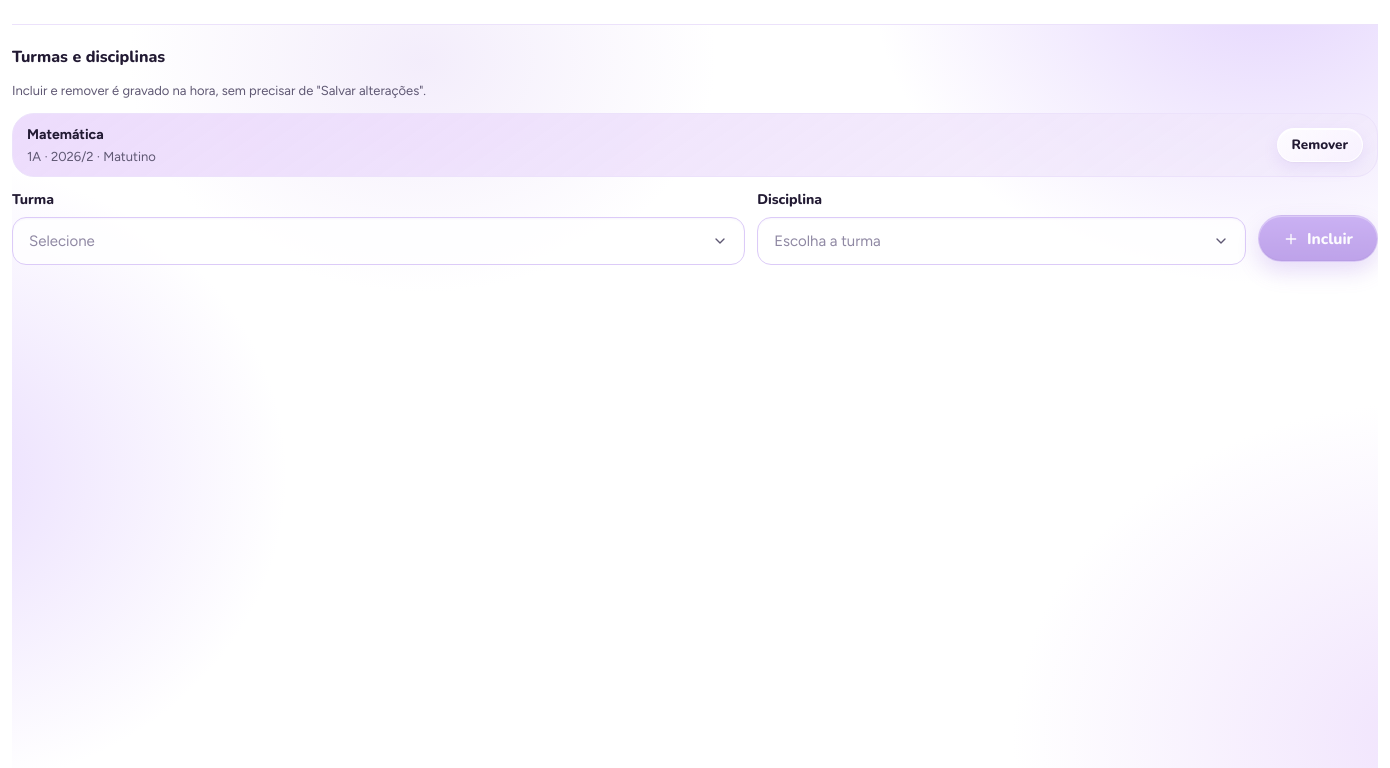
Test: AlocacoesDoProfessor › lista as alocações e só oferece turma ativa e disciplina sem professor
Expected: the text "1A · 2026/2 · Matutino" is shown, [27,146,156,166]
Click the dropdown named "Turma" at (62, 241), box [12,217,745,265]
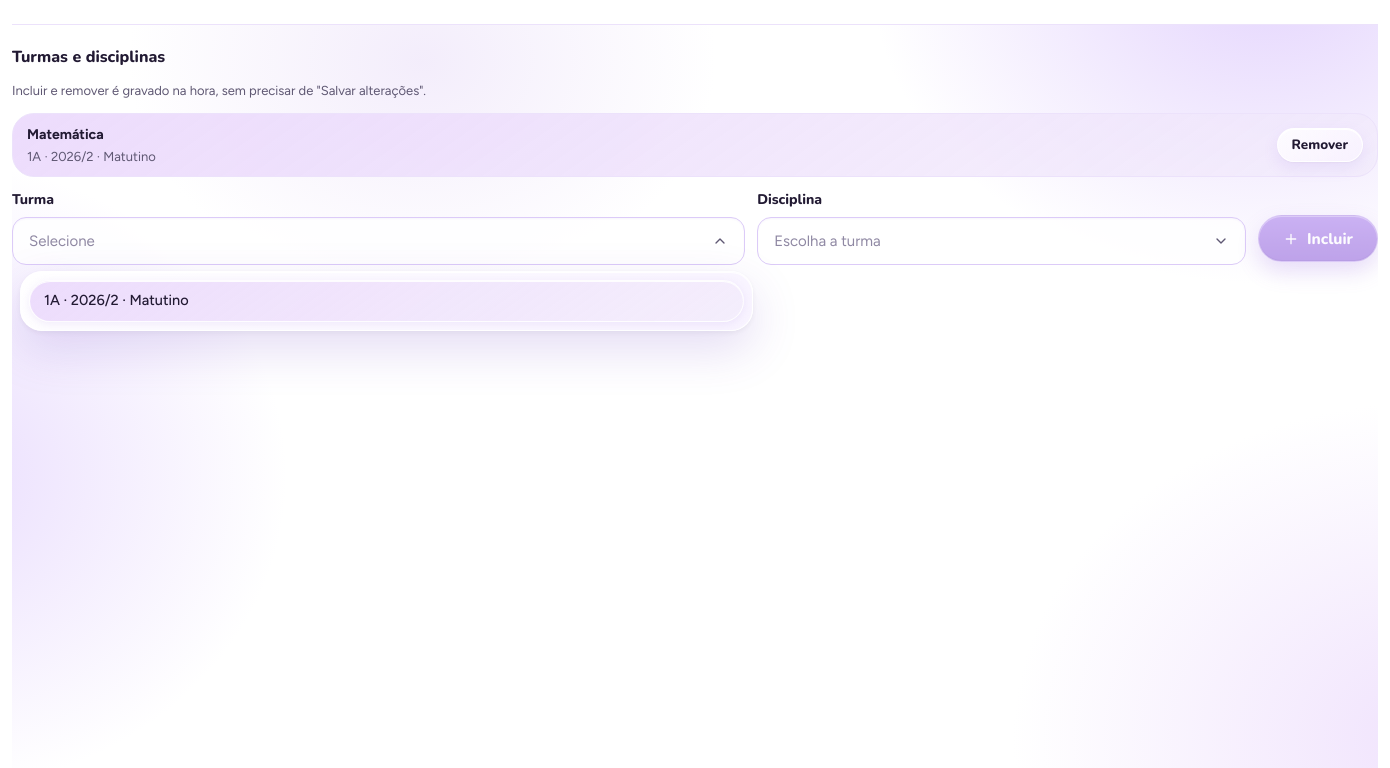
Click the option "1A · 2026/2 · Matutino" at (116, 300), box [29,280,744,322]
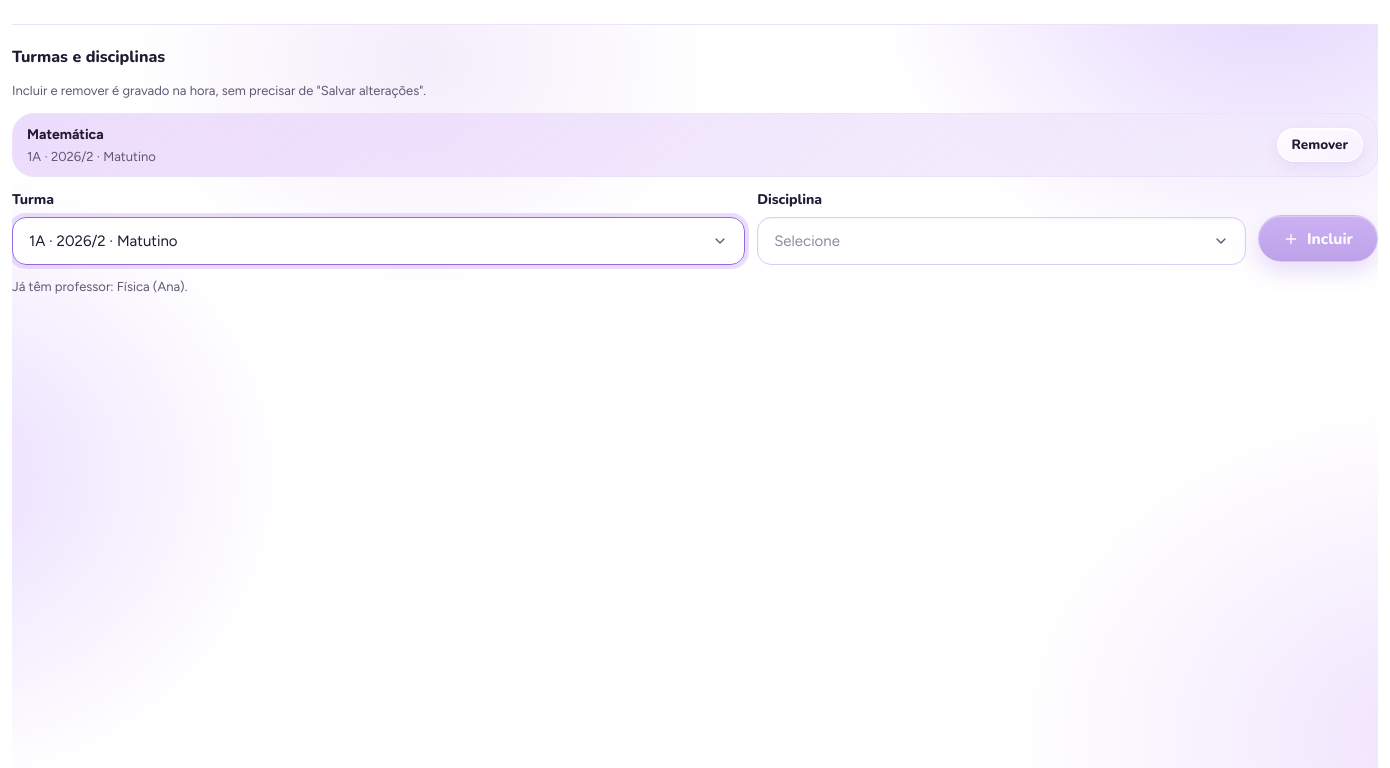
Expected: the text "Já têm professor: Física (Ana)." is shown, [12,279,187,294]
Click the dropdown named "Disciplina" at (807, 241), box [757,217,1246,265]
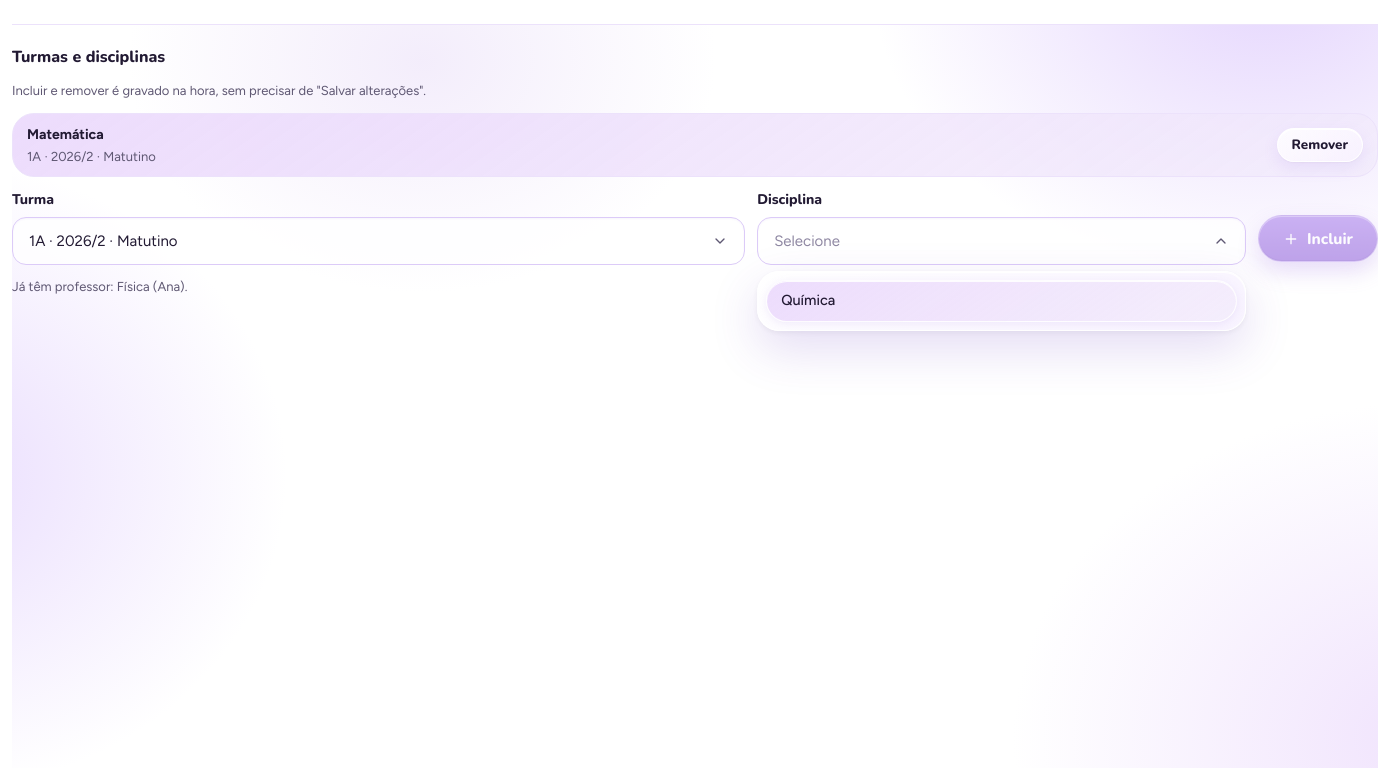
Expected: the options read "Química", in this order, [766,280,1237,322]
